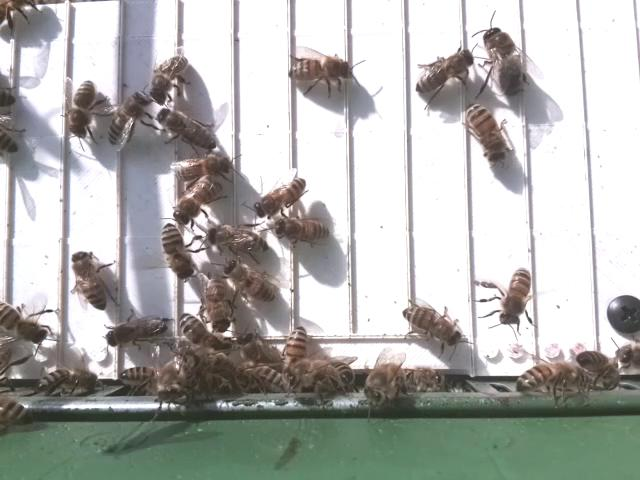Drone: (480, 23, 530, 102)
Worker: (397, 301, 467, 350), (412, 46, 477, 97), (462, 101, 509, 169), (154, 105, 219, 152), (69, 247, 111, 313), (104, 91, 149, 151), (222, 257, 277, 306), (494, 266, 536, 327), (159, 219, 198, 283), (173, 178, 226, 225), (286, 50, 356, 85), (252, 175, 307, 219), (516, 359, 584, 394), (204, 223, 272, 257), (149, 51, 190, 105), (104, 315, 169, 347), (272, 214, 334, 245), (170, 154, 236, 183), (66, 81, 98, 140), (204, 273, 233, 337), (284, 320, 311, 376)
